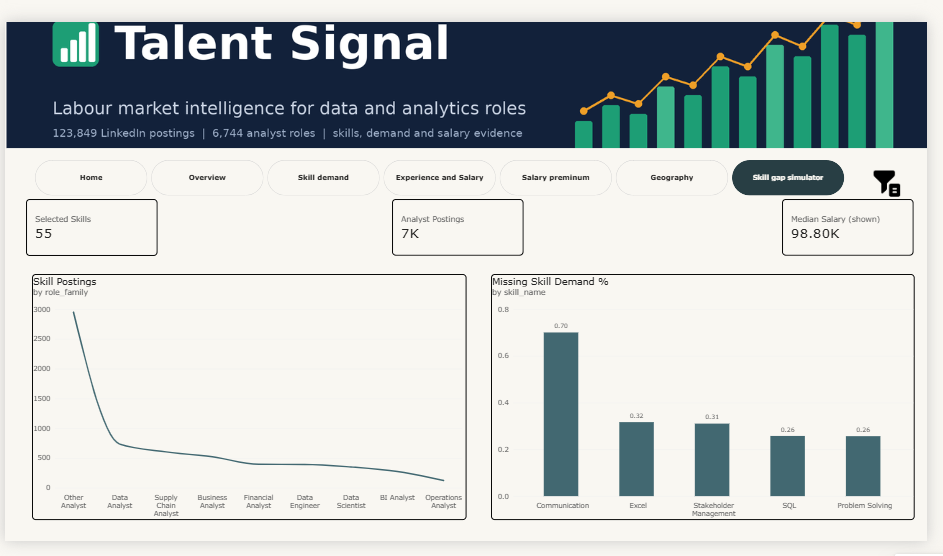

Layout of this report page (visuals, bound fields, positions):
{"tool":"powerbi","page":{"name":"Skill gap  simulator ","canvas":[1920,1080],"ordinal":6},"visuals":[{"type":"image","box":[1808,309.8,62,54.9],"z":0,"group":"g1"},{"type":"clusteredColumnChart","fields":{"Category":["public dim_skill.skill_name"],"Y":["_Measures.Missing Skill Demand %"]},"box":[1012.8,525.5,883,512.8],"z":0},{"type":"cardVisual","fields":{"Data":["_Measures.Median Salary (shown)"]},"box":[1619.1,370.2,274,118],"z":1000},{"type":"pageNavigator","box":[61.7,287.2,1691.5,74.5],"z":2000},{"type":"group","id":"g1","title":"Group 2","box":[1590.9,262.1,329.1,704],"z":4000},{"type":"cardVisual","fields":{"Data":["_Measures.Analyst Postings"]},"box":[806.4,370.2,274,118],"z":6000},{"type":"cardVisual","fields":{"Data":["_Measures.Selected Skills"]},"box":[45,370,274.1,118.5],"z":7000},{"type":"image","box":[2.9,0,1918.5,263],"z":8000},{"type":"lineChart","fields":{"Category":["dim_role.role_family"],"Y":["_Measures.Skill Postings"]},"box":[55,525,905,512.5],"z":9000}]}

Visuals, with their boxes on the page's 1920x1080 design canvas (x1, y1, x2, y2). These are canvas units, not pixel positions in the 943x556 screenshot, which may show the page scaled, cropped or inside an application window:
image: {"left": 1808, "top": 310, "right": 1870, "bottom": 365}
clusteredColumnChart - public dim_skill.skill_name x _Measures.Missing Skill Demand %: {"left": 1013, "top": 526, "right": 1896, "bottom": 1038}
cardVisual - _Measures.Median Salary (shown): {"left": 1619, "top": 370, "right": 1893, "bottom": 488}
pageNavigator: {"left": 62, "top": 287, "right": 1753, "bottom": 362}
"Group 2" group: {"left": 1591, "top": 262, "right": 1920, "bottom": 966}
cardVisual - _Measures.Analyst Postings: {"left": 806, "top": 370, "right": 1080, "bottom": 488}
cardVisual - _Measures.Selected Skills: {"left": 45, "top": 370, "right": 319, "bottom": 488}
image: {"left": 3, "top": 0, "right": 1921, "bottom": 263}
lineChart - dim_role.role_family x _Measures.Skill Postings: {"left": 55, "top": 525, "right": 960, "bottom": 1038}
